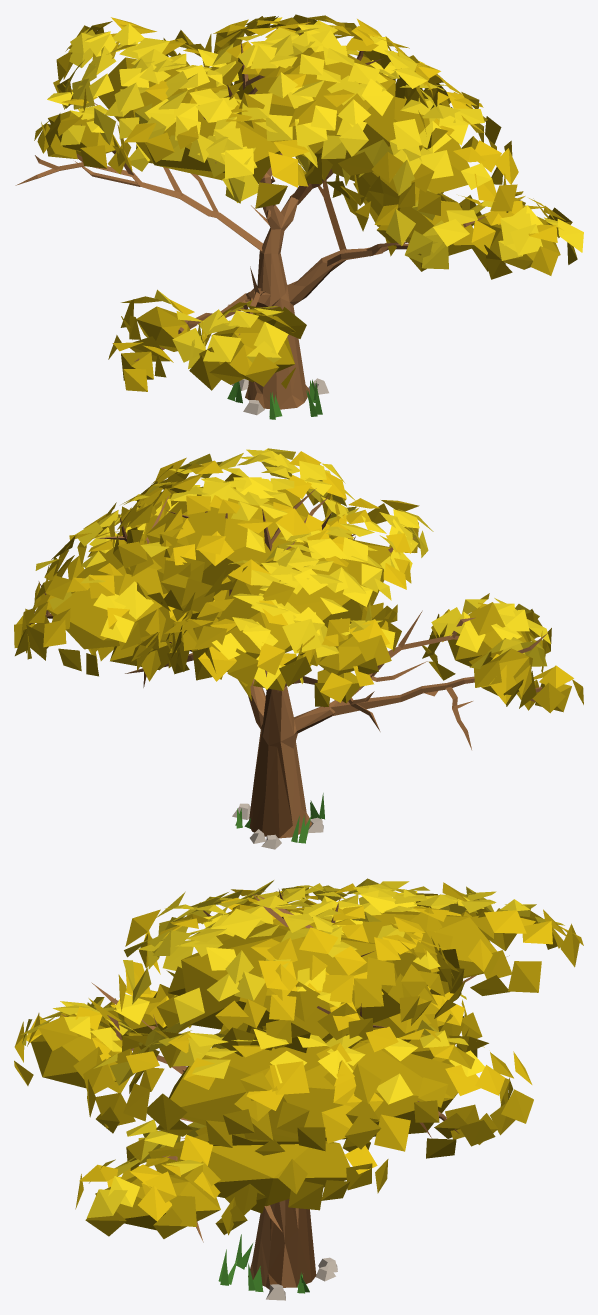
Rendered from yellow_oak_bloom.glb.
3 views of the same model, one above another, from view 1: azimuth 30°, elevation 25°; view 2: azimuth 150°, elevation 25°; view 3: azimuth 270°, elevation 25° (orthographic). The views are drawn at different scales.
Visible parts, largest first — view 1: yellow_oak_bloom; view 2: yellow_oak_bloom; view 3: yellow_oak_bloom.
Part boxes in pixels (<box>): yellow_oak_bloom: <box>15,14,583,419</box>; yellow_oak_bloom: <box>14,448,583,849</box>; yellow_oak_bloom: <box>14,878,583,1300</box>.
Bounding box in the file's own units: 8.76 × 6.36 × 8.45.
